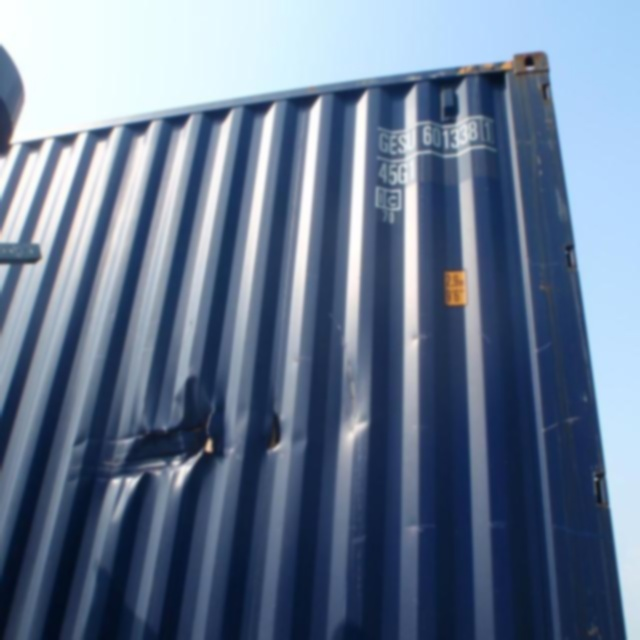Dent: (73, 375, 305, 510), (337, 362, 377, 450)
Hole: (117, 405, 215, 469), (264, 405, 289, 458)
